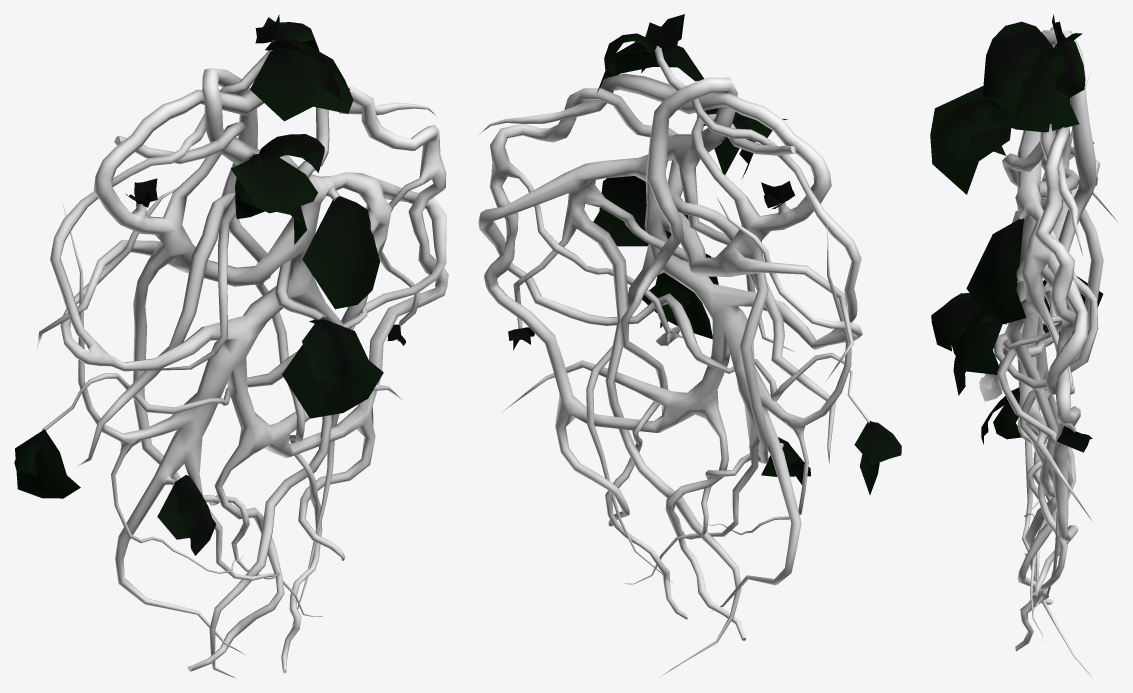
Rendered from Nature_Shield_afsTREE_LOD0.fbx.
The picture shows the model from 3 angles, left to right: view 1: azimuth 30°, elevation 25°; view 2: azimuth 150°, elevation 25°; view 3: azimuth 270°, elevation 25°; orthographic projection. The views are drawn at different scales.
Parts seen in each view (by area): view 1: trunk_xw00_xt00, branch01.013_xw02_xt05_xp07, branch01.018_xp03, branch01.011, branch01.021_xp05, branch01.009, branch01.023_xp04, branch01.010_xp05, branch01.008_xp07, branch01.020_xp10, branch01.005_xp09, branch01.019 (+4 smaller); view 2: trunk_xw00_xt00, branch01.013_xw02_xt05_xp07, branch01, branch01.018_xp03, branch01.007_xw16_xp10, branch01.020_xp10, branch01.006_xw15_xt15, branch01.021_xp05, branch01.011; view 3: trunk_xw00_xt00, branch01.013_xw02_xt05_xp07, branch01.007_xw16_xp10, branch01.005_xp09, branch01.010_xp05, branch01.019, branch01.020_xp10, branch01.006_xw15_xt15, branch01.009, branch01.018_xp03, branch01.008_xp07, branch01.011 (+3 smaller).
Part boxes in pixels (box(x1,y1,x2,y2)): trunk_xw00_xt00: box(36, 40, 448, 678); branch01.013_xw02_xt05_xp07: box(302, 196, 379, 309); branch01.018_xp03: box(282, 319, 383, 418); branch01.011: box(250, 47, 349, 121); branch01.021_xp05: box(15, 430, 80, 498); branch01.009: box(239, 152, 317, 213); branch01.023_xp04: box(173, 475, 216, 555); branch01.010_xp05: box(231, 160, 306, 244); branch01.008_xp07: box(258, 134, 324, 172); branch01.020_xp10: box(302, 324, 337, 383); branch01.005_xp09: box(265, 39, 342, 101); branch01.019: box(309, 319, 350, 379); trunk_xw00_xt00: box(478, 46, 869, 676); branch01.013_xw02_xt05_xp07: box(593, 176, 688, 246); branch01: box(854, 422, 901, 464); branch01.018_xp03: box(642, 273, 712, 338); branch01.007_xw16_xp10: box(597, 42, 677, 92); branch01.020_xp10: box(660, 275, 718, 327); branch01.006_xw15_xt15: box(604, 33, 655, 75); branch01.021_xp05: box(859, 421, 879, 494); branch01.011: box(662, 45, 703, 81); trunk_xw00_xt00: box(994, 27, 1116, 676); branch01.013_xw02_xt05_xp07: box(966, 218, 1026, 324); branch01.007_xw16_xp10: box(987, 48, 1079, 132); branch01.005_xp09: box(983, 21, 1053, 109); branch01.010_xp05: box(930, 86, 1011, 194); branch01.019: box(931, 293, 1006, 351); branch01.020_xp10: box(951, 321, 1002, 374); branch01.006_xw15_xt15: box(1048, 40, 1085, 98); branch01.009: box(934, 112, 1002, 158); branch01.018_xp03: box(953, 310, 985, 395); branch01.008_xp07: box(940, 99, 992, 125); branch01.011: box(987, 48, 1053, 115).
Bounding box in the file's own units: 3.05 × 4.48 × 1.14.
